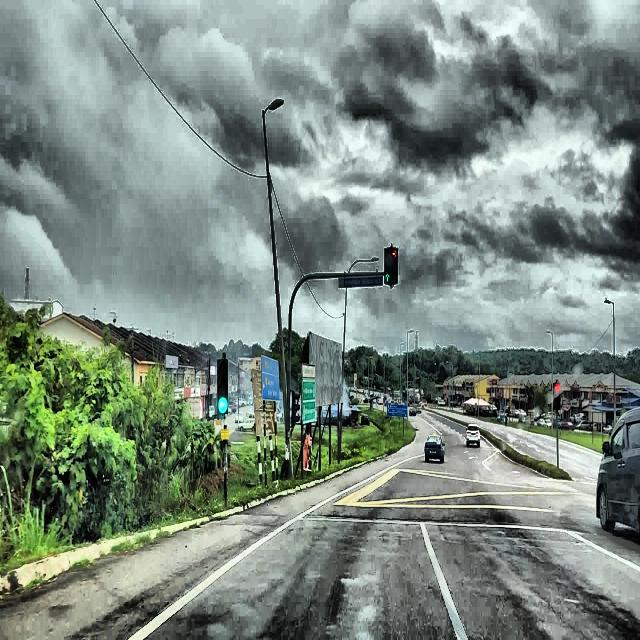green: (217, 358, 228, 416), (384, 247, 392, 283)
red: (392, 248, 398, 283), (553, 381, 560, 410)
